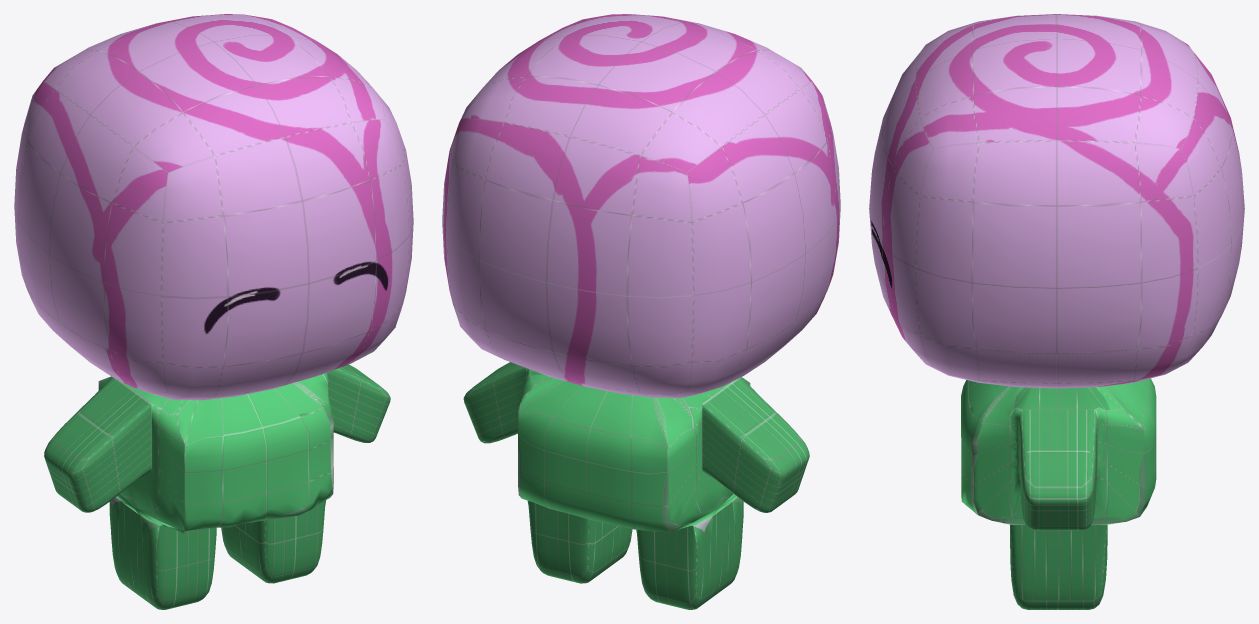
The model's file is Little_Lad_flower.fbx.
3 views of the same model, side by side, from view 1: azimuth 30°, elevation 25°; view 2: azimuth 150°, elevation 25°; view 3: azimuth 270°, elevation 25° (orthographic).
Parts seen in each view (by area): view 1: little_lad_hes_fine; view 2: little_lad_hes_fine; view 3: little_lad_hes_fine.
Part boxes in pixels (bbox=[...]): little_lad_hes_fine: bbox=[14, 14, 413, 609]; little_lad_hes_fine: bbox=[442, 14, 840, 609]; little_lad_hes_fine: bbox=[869, 14, 1244, 609].
Bounding box in the file's own units: 67.82 × 106 × 67.82.
